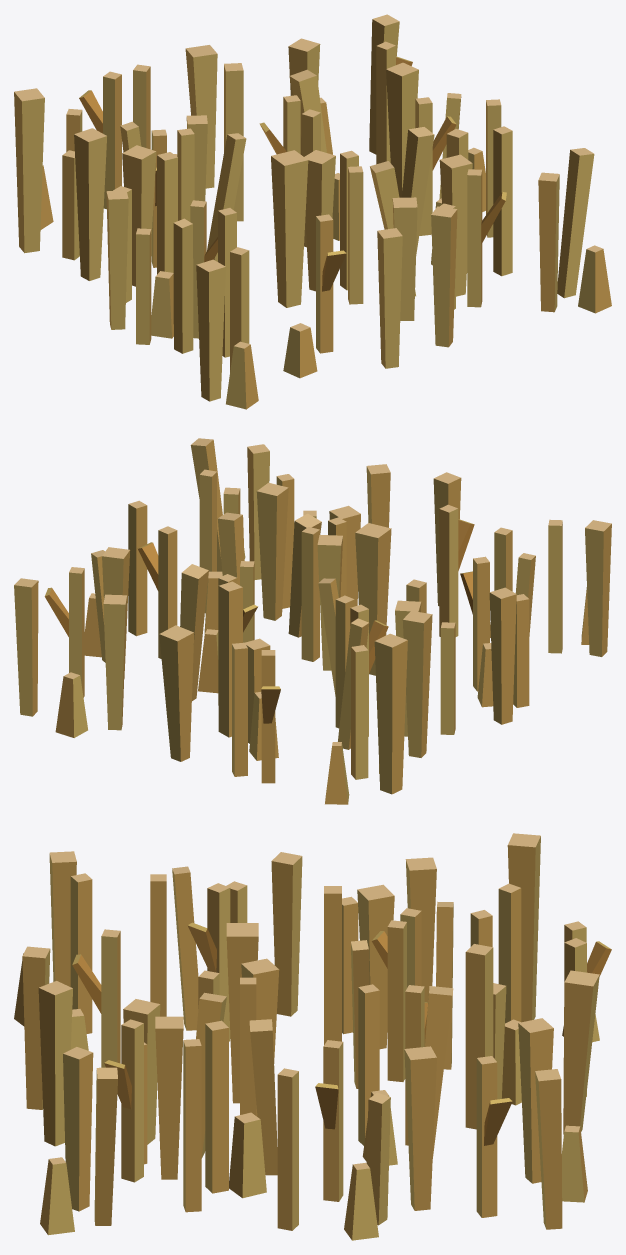
Rendered from Crops_Wheat.gltf.
The picture shows the model from 3 angles, top to bottom: view 1: azimuth 30°, elevation 25°; view 2: azimuth 150°, elevation 25°; view 3: azimuth 270°, elevation 25°; orthographic projection. The views are drawn at different scales.
Parts seen in each view (by area): view 1: SF_Prop_Crops_Wheat_01; view 2: SF_Prop_Crops_Wheat_01; view 3: SF_Prop_Crops_Wheat_01.
Boxes of the visible parts, x1,y1,x2,y2 form: SF_Prop_Crops_Wheat_01: (14, 14, 611, 409); SF_Prop_Crops_Wheat_01: (14, 438, 611, 804); SF_Prop_Crops_Wheat_01: (14, 833, 611, 1240).
Bounding box in the file's own units: 0.0922 × 0.0328 × 0.0988.
1 material, 1 textured.
